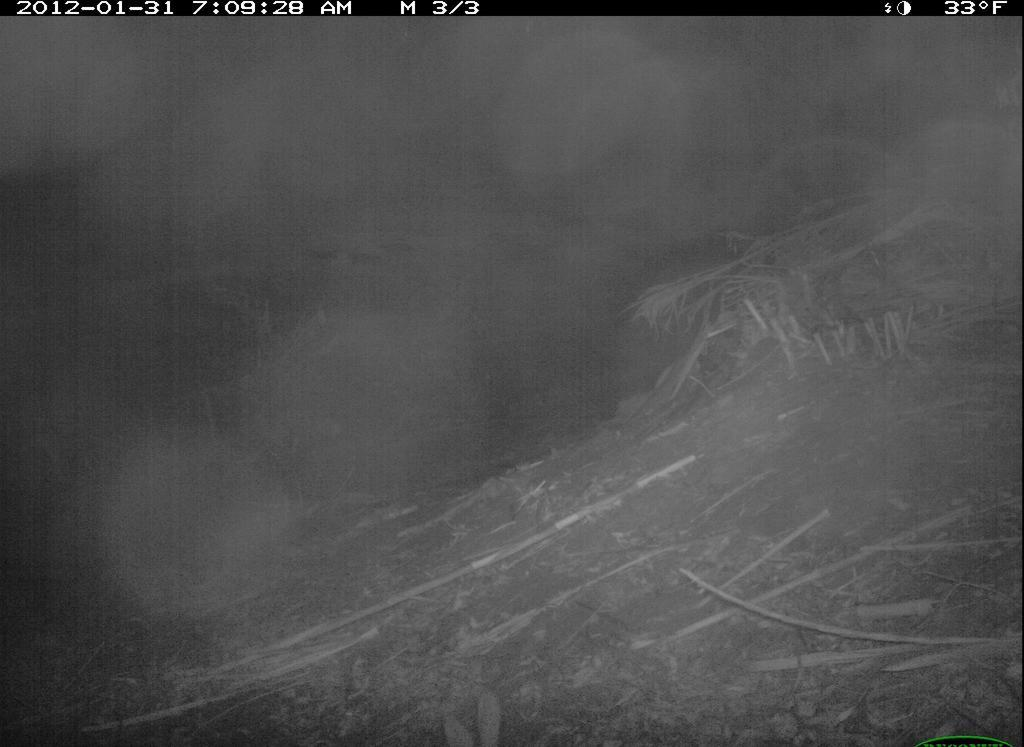rabbit: (428, 690, 513, 743)
